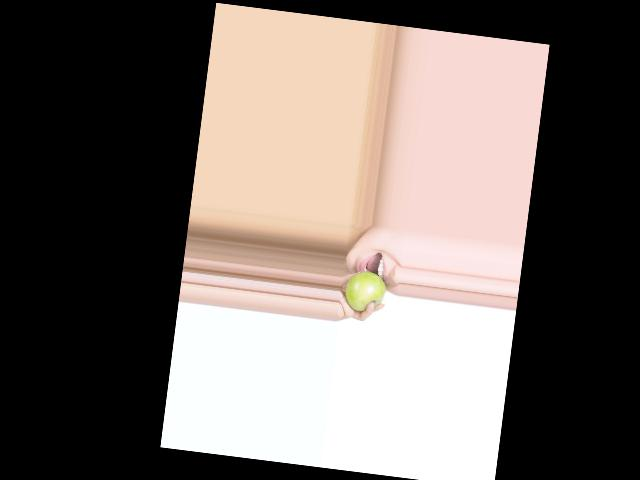apple: (343, 267, 388, 315)
